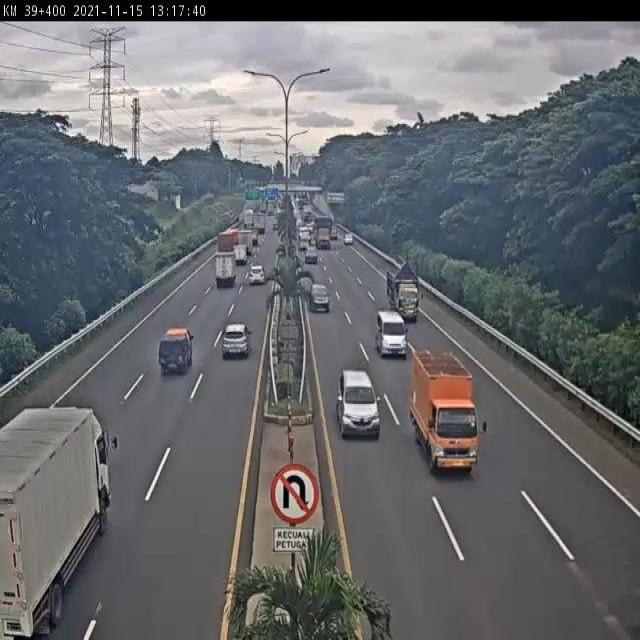car: (333, 368, 384, 441), (371, 308, 410, 361), (220, 320, 252, 361), (308, 280, 331, 316), (247, 263, 267, 289)
truck-m-: (0, 401, 119, 632), (211, 250, 239, 290)
truck-s-: (405, 348, 482, 476), (385, 262, 423, 322), (157, 324, 195, 379)
